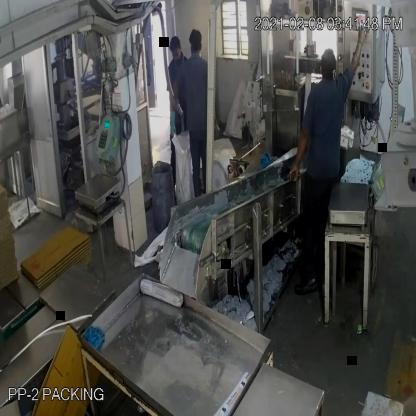no_glove: (280, 129, 318, 185), (346, 22, 375, 78)
